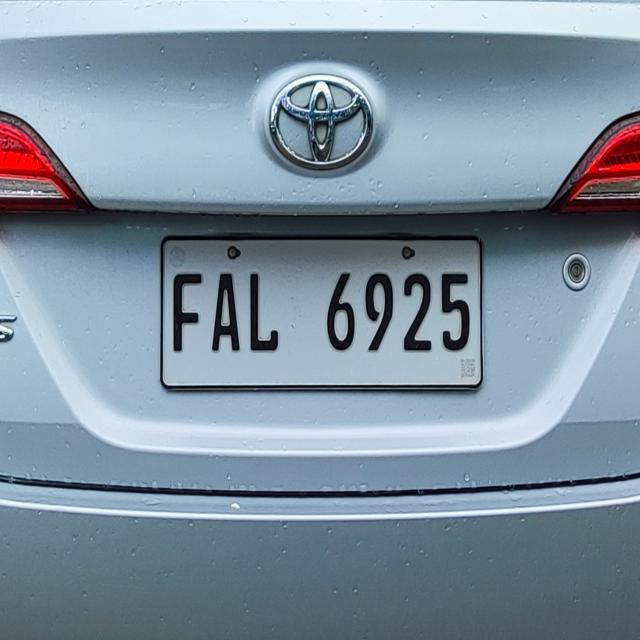LicensePlate: (148, 225, 499, 414)
